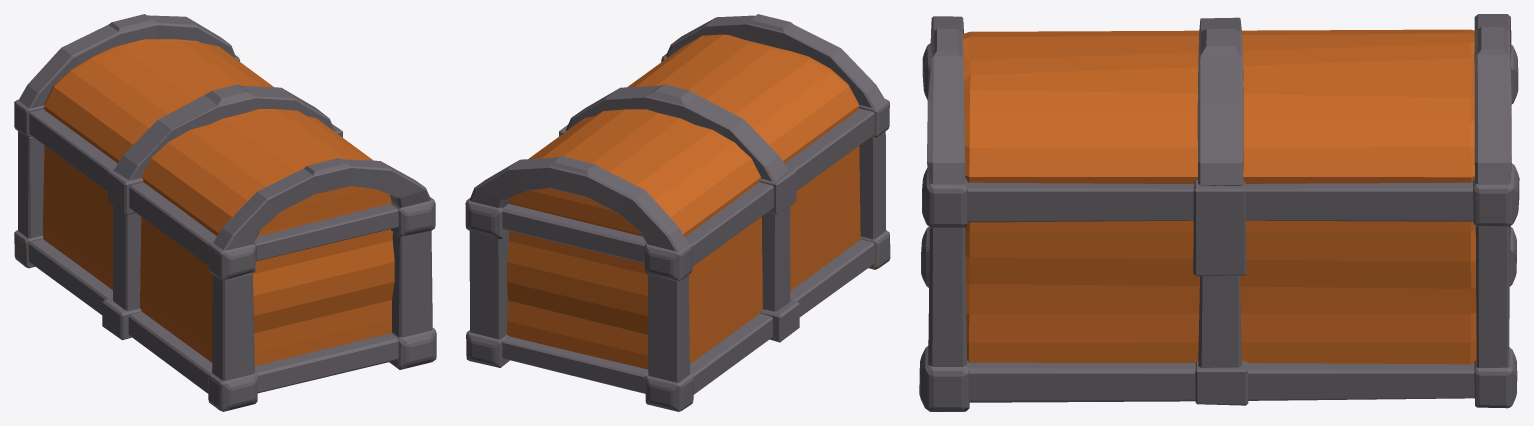
File: Chest.fbx
The picture shows the model from 3 angles, left to right: view 1: azimuth 30°, elevation 25°; view 2: azimuth 150°, elevation 25°; view 3: azimuth 270°, elevation 25°; orthographic projection. The views are drawn at different scales.
Visible parts, largest first — view 1: Chest; view 2: Chest; view 3: Chest.
Boxes of the visible parts, box(x1,y1,x2,y2) form: Chest: box(14, 14, 436, 411); Chest: box(465, 14, 890, 411); Chest: box(919, 14, 1519, 411).
Size of the model in its own units: 47.75 by 44.89 by 79.5.
